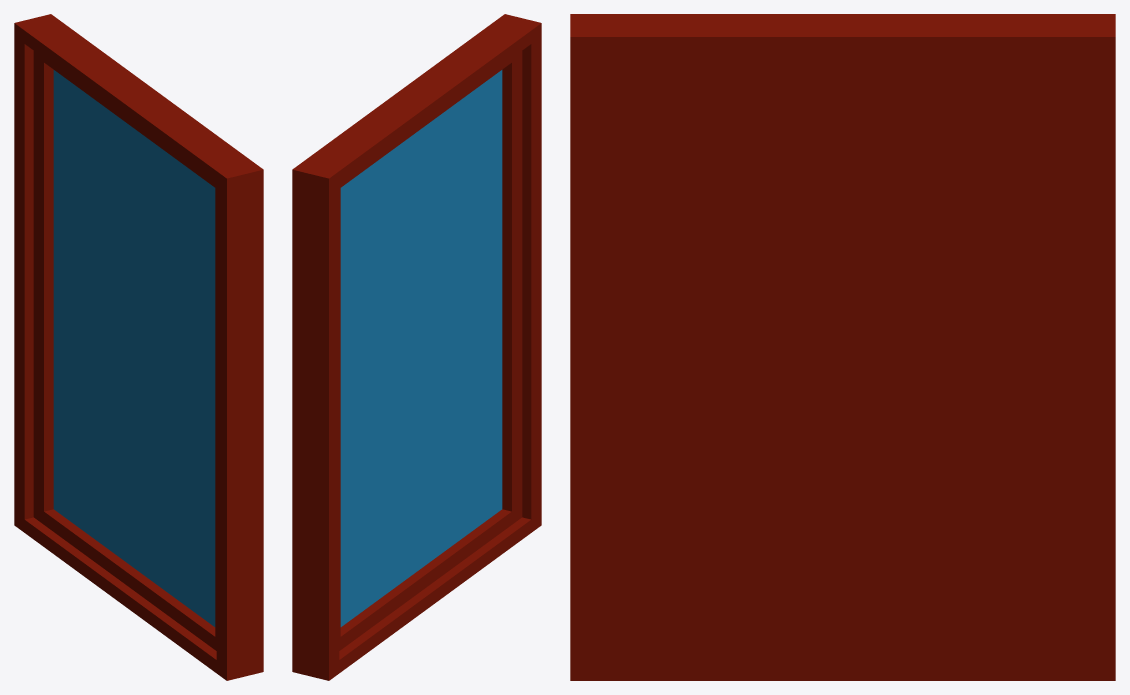
File: Picture_01_Set.fbx
3 renders of one model, left to right at view 1: azimuth 30°, elevation 25°; view 2: azimuth 150°, elevation 25°; view 3: azimuth 270°, elevation 25°, orthographic. The views are drawn at different scales.
Visible parts, largest first — view 1: Picture_01_Image, Picture_01_Frame; view 2: Picture_01_Image, Picture_01_Frame; view 3: Picture_01_Frame.
Boxes of the visible parts, x1,y1,x2,y2 form: Picture_01_Image: (53, 70, 215, 626); Picture_01_Frame: (14, 14, 263, 680); Picture_01_Image: (340, 70, 502, 626); Picture_01_Frame: (292, 14, 541, 680); Picture_01_Frame: (570, 14, 1115, 680).
Size of the model in its own units: 10.08 by 131 by 101.
